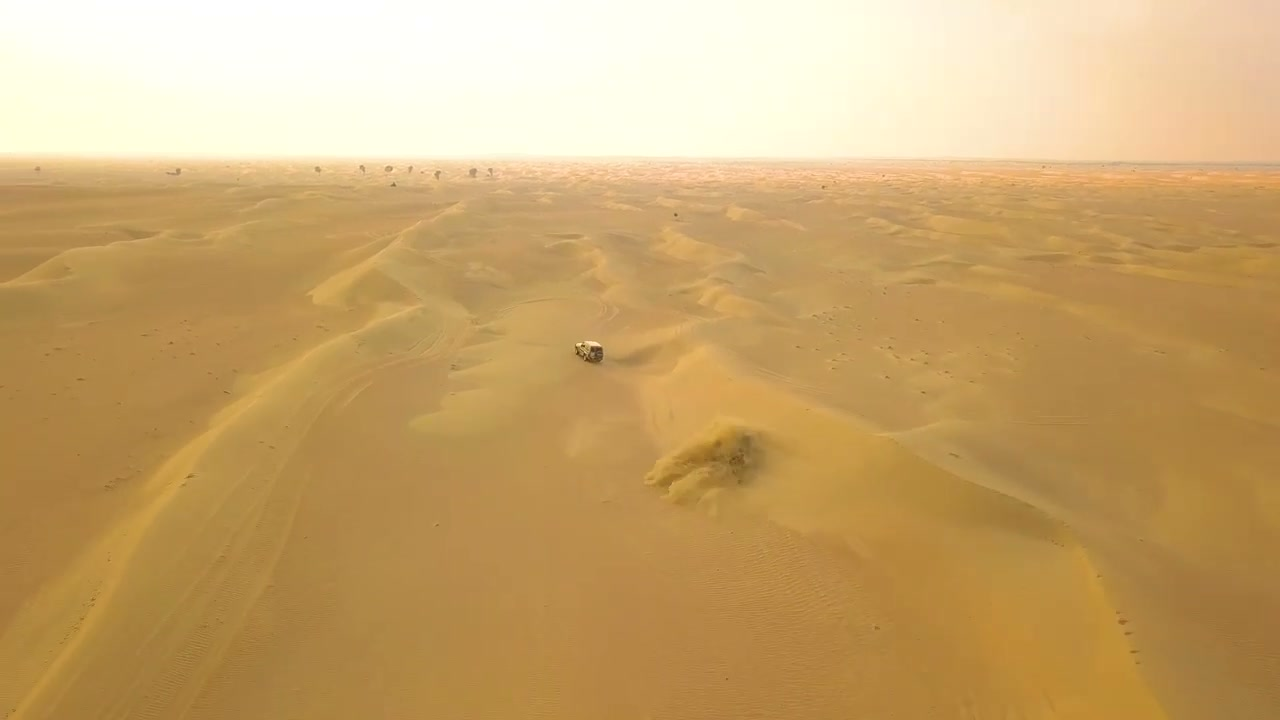vehicle_track: (104, 332, 409, 719)
